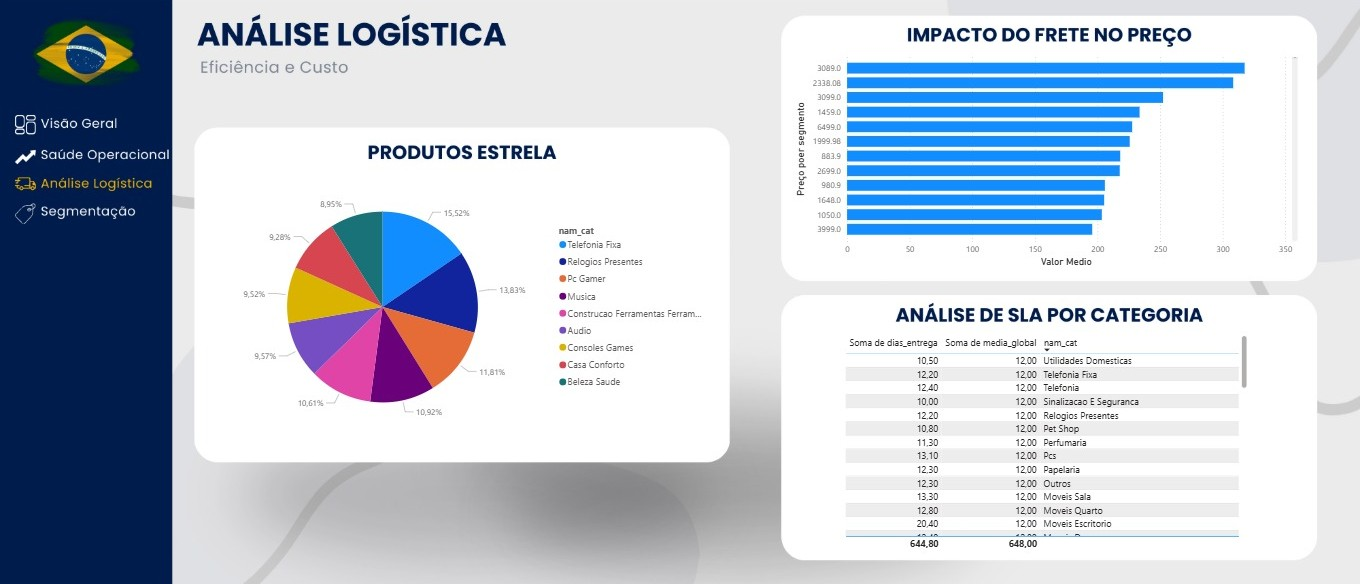

What the dashboard file says about the page in this screenshot:
{"tool":"powerbi","page":{"name":"Análise Logística","canvas":[2000,867],"ordinal":2},"visuals":[{"type":"tableEx","fields":{"Values":["Sum(Análise de SLA Logístico.dias_entrega)","Sum(Análise de SLA Logístico.media_global)","Análise de SLA Logístico.nam_cat"]},"box":[1238.2,492.6,601.5,325],"z":0},{"type":"hundredPercentStackedColumnChart","fields":{"Category":["Análise de Custo Logístico.segmento_preco"],"Y":["Sum(Análise de Custo Logístico.media_valor_produto)","Sum(Análise de Custo Logístico.media_valor_frete)"]},"box":[1164.7,75,748.5,326.5],"z":1000},{"type":"scatterChart","fields":{"Category":["Alta Receita e Baixo Frete.nam_cat"],"X":["Sum(Alta Receita e Baixo Frete.preco_medio)"],"Y":["Sum(Alta Receita e Baixo Frete.frete_medio)"]},"box":[298.5,255.9,750,400],"z":2000},{"type":"actionButton","box":[0,167.6,252.9,39.7],"z":3000},{"type":"actionButton","box":[0,207.4,252.9,39.7],"z":4000},{"type":"actionButton","box":[0,295.6,252.9,45.6],"z":5000}]}

Visuals, with their boxes on the page's 2000x867 design canvas (x1, y1, x2, y2). These are canvas units, not pixel positions in the 1360x584 screenshot, which may show the page scaled, cropped or inside an application window:
tableEx - Sum(Análise de SLA Logístico.dias_entrega) x Sum(Análise de SLA Logístico.media_global): [1238,493,1840,818]
hundredPercentStackedColumnChart - Análise de Custo Logístico.segmento_preco x Sum(Análise de Custo Logístico.media_valor_produto): [1165,75,1913,402]
scatterChart - Alta Receita e Baixo Frete.nam_cat x Sum(Alta Receita e Baixo Frete.preco_medio): [298,256,1048,656]
actionButton: [0,168,253,207]
actionButton: [0,207,253,247]
actionButton: [0,296,253,341]
